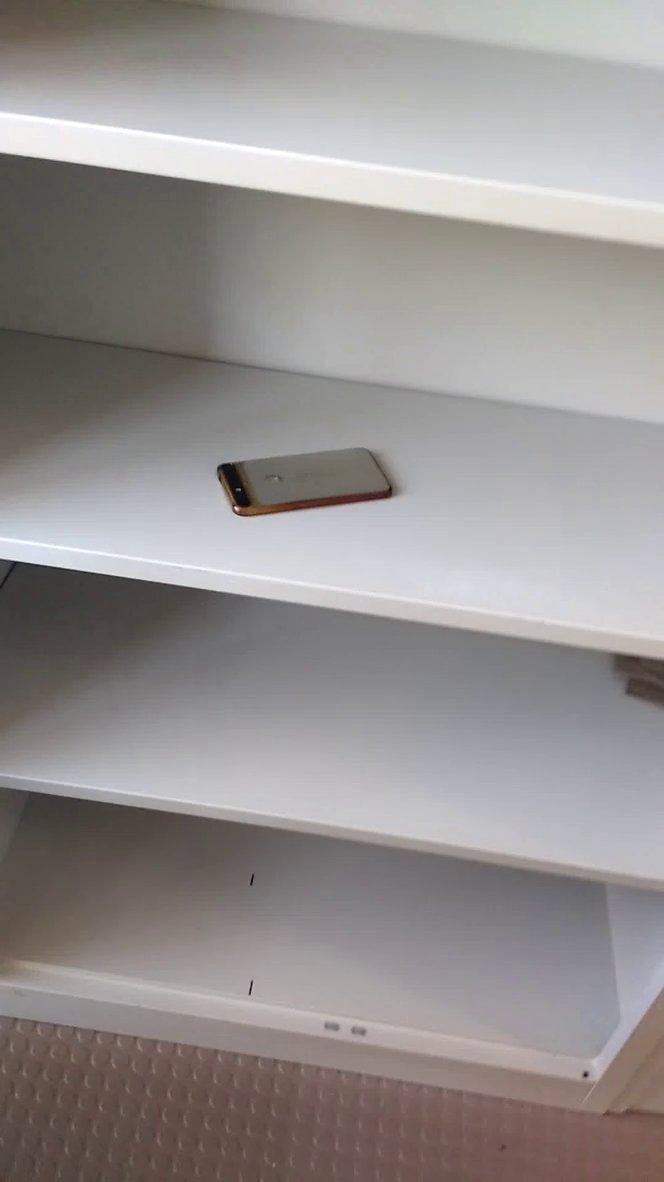phone: (205, 436, 405, 528)
